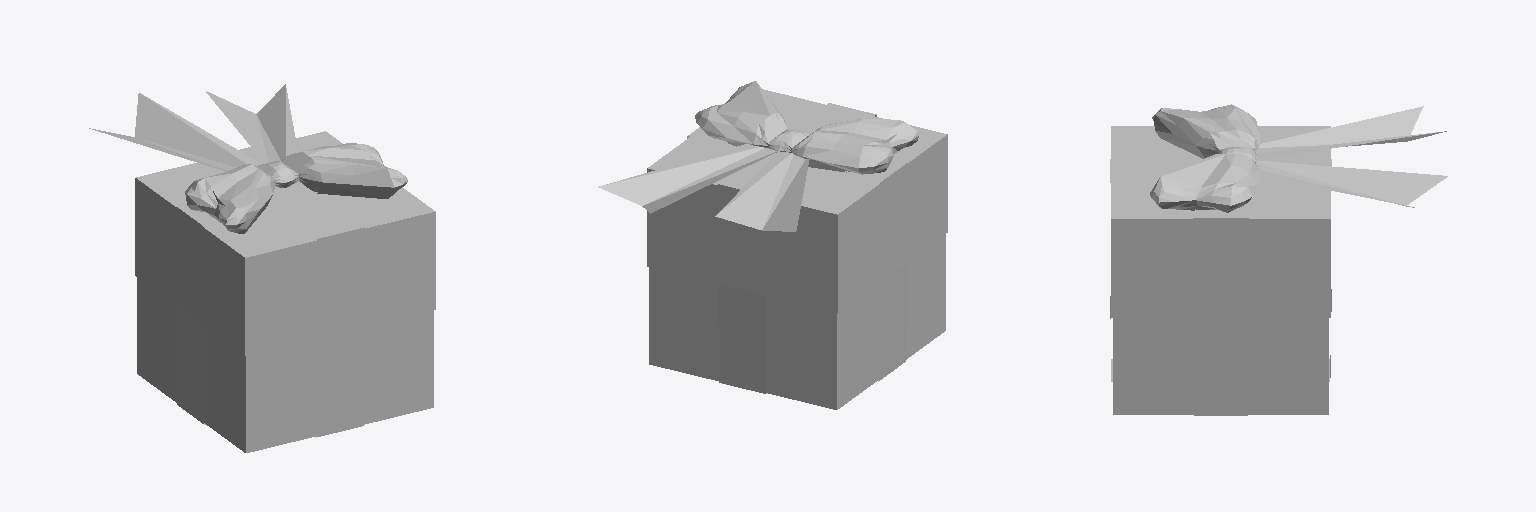
The model's file is giftBox.obj.
The picture shows the model from 3 angles: view 1: azimuth 30°, elevation 25°; view 2: azimuth 150°, elevation 25°; view 3: azimuth 270°, elevation 25°; orthographic projection.
Visible parts, largest first — view 1: Cube.002; view 2: Cube.002; view 3: Cube.002.
Boxes of the visible parts, x1=… form: Cube.002: x1=89, y1=84, x2=435, y2=452; Cube.002: x1=598, y1=81, x2=947, y2=409; Cube.002: x1=1110, y1=104, x2=1447, y2=415.
Bounding box in the file's own units: 1.3 × 1.42 × 1.91.